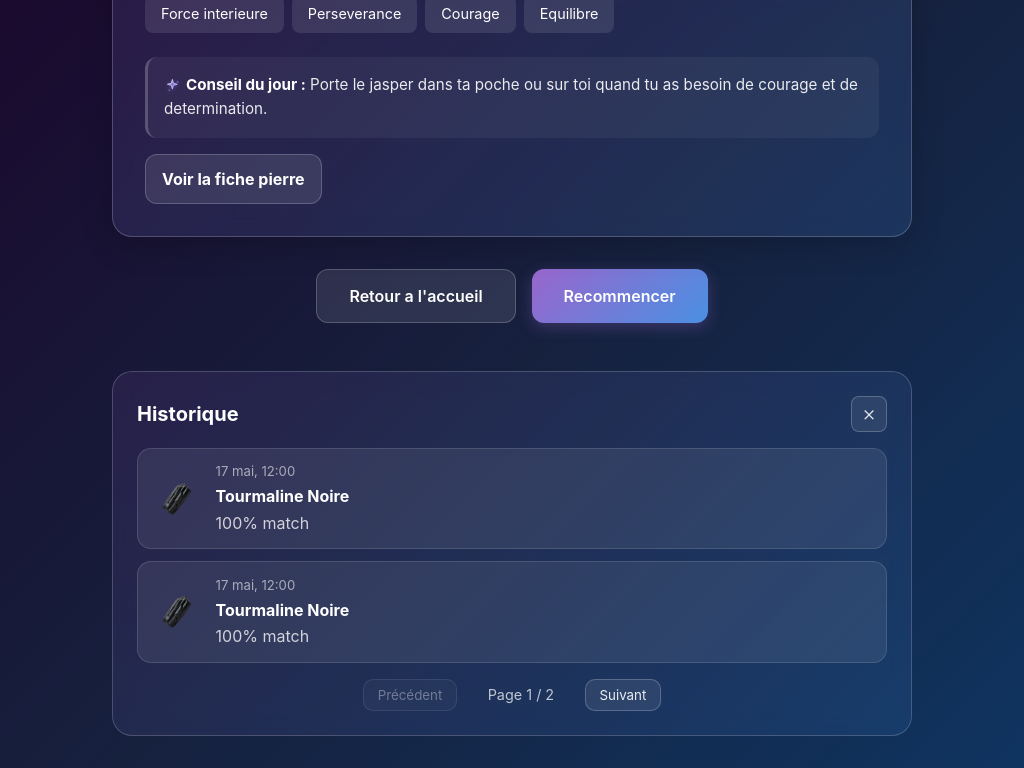
Test: Results history › paginates history entries two per page
This screenshot has width=1024, height=768.
(page scrolled)
Expected: the heading "Historique" is shown, left=137, top=402, right=239, bottom=426
Expected: the text "Page 1 / 2" is shown, left=488, top=686, right=554, bottom=703
Step 1. Click the button with aria-label "Page suivante" → (623, 695), box left=585, top=679, right=661, bottom=711
(page scrolled)
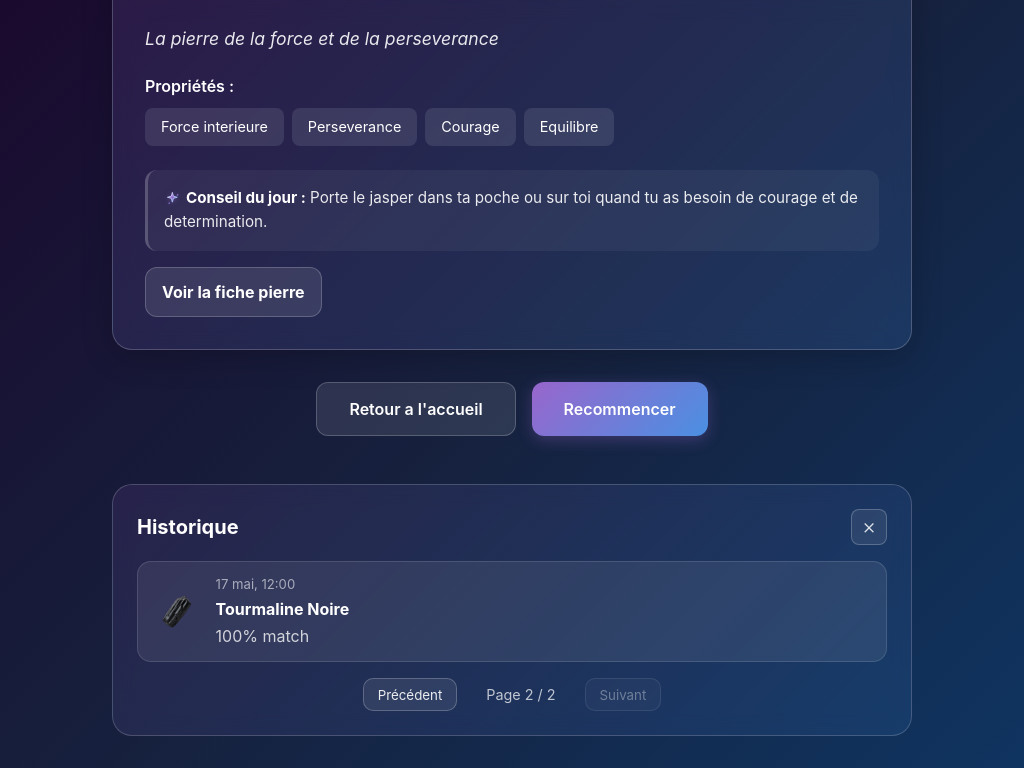
Expected: the text "Page 2 / 2" is shown, left=486, top=686, right=556, bottom=703
